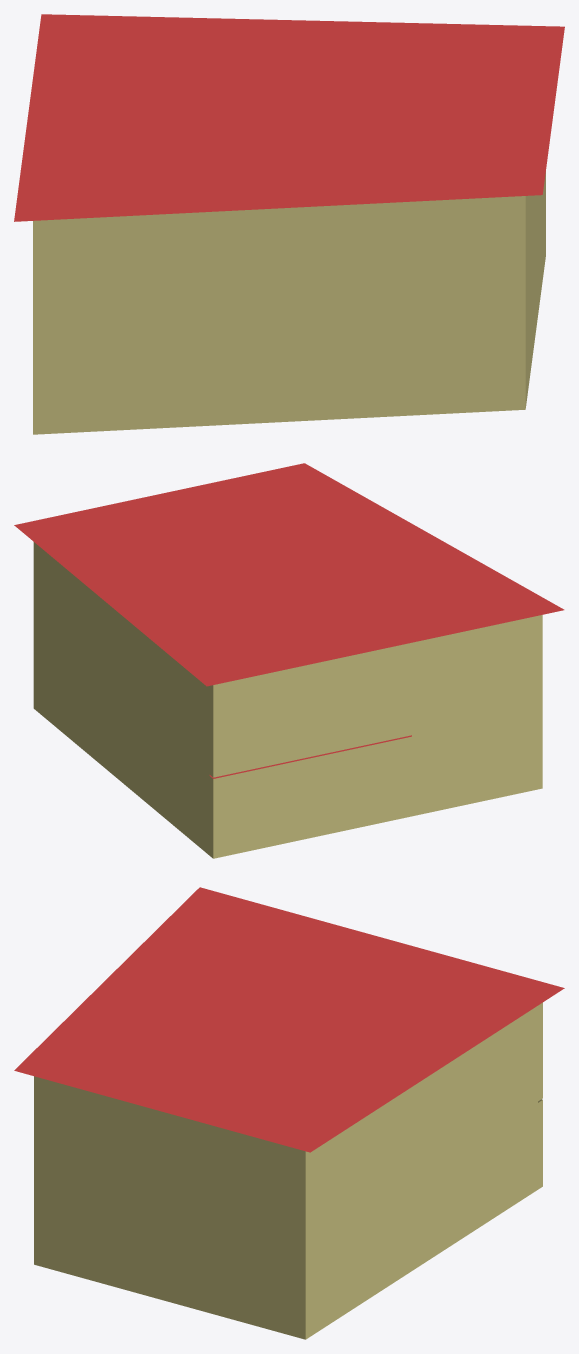
3 renders of one model, top to bottom at view 1: azimuth 30°, elevation 25°; view 2: azimuth 150°, elevation 25°; view 3: azimuth 270°, elevation 25°, orthographic. The views are drawn at different scales.
Visible parts, largest first — view 1: group_5, group_3, group_4; view 2: group_5, group_3, group_4; view 3: group_5, group_3, group_4.
Part boxes in pixels (bbox=[...]): group_5: bbox=[33, 172, 545, 434]; group_3: bbox=[14, 14, 564, 221]; group_4: bbox=[14, 14, 564, 221]; group_5: bbox=[33, 542, 542, 858]; group_3: bbox=[14, 463, 564, 686]; group_4: bbox=[15, 464, 562, 686]; group_5: bbox=[34, 1002, 542, 1339]; group_3: bbox=[14, 887, 564, 1152]; group_4: bbox=[15, 887, 563, 1152].
Bounding box in the file's own units: 39.42 × 34.58 × 13.6.
